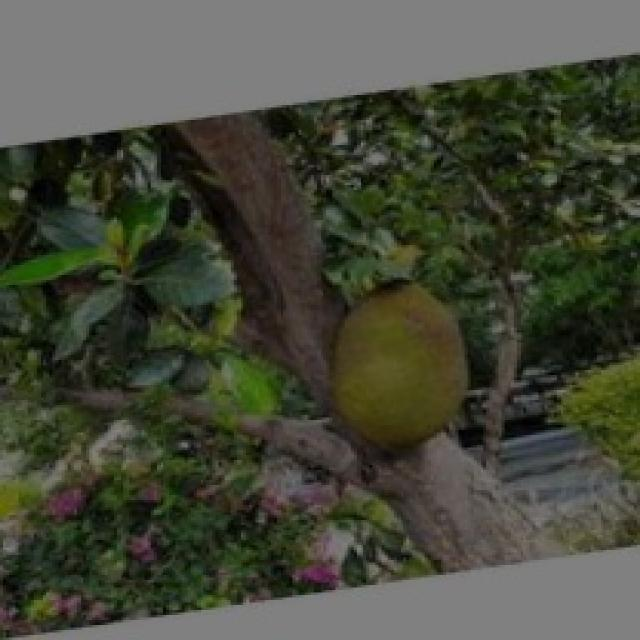Fruit: (292, 252, 498, 480)
